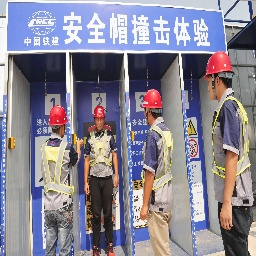helmet: (203, 52, 235, 87), (142, 87, 164, 112), (48, 103, 68, 128), (93, 104, 106, 122)
person: (205, 52, 256, 256), (139, 88, 179, 256), (41, 102, 80, 256), (83, 101, 119, 256)
